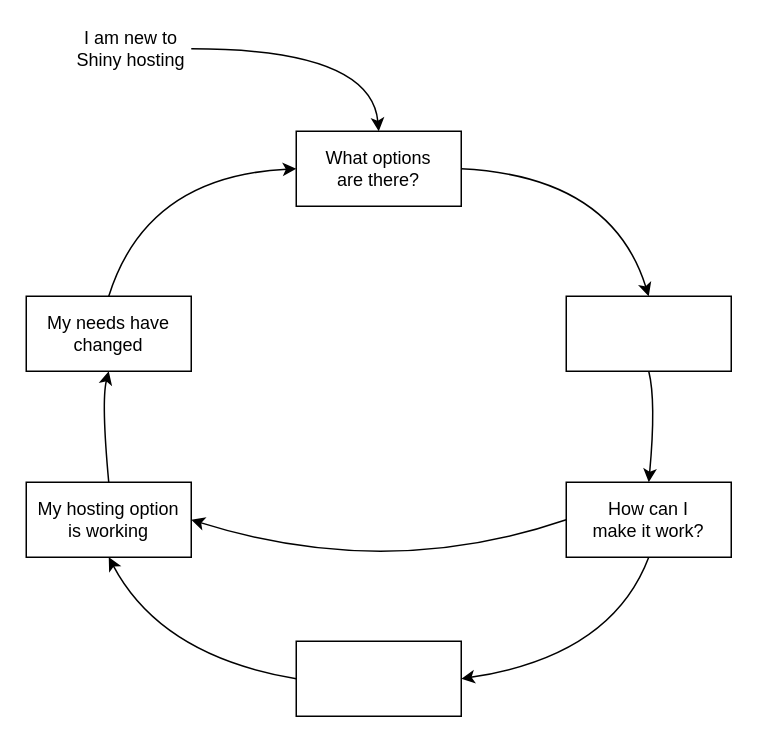
Image size: 758x743. Some labels were removed from this diagram. The centre of each missing label's shape, as x and y in pixels:
I am stuck. Where can I get help?: point 378,678
Which one should I choose?: point 648,333
